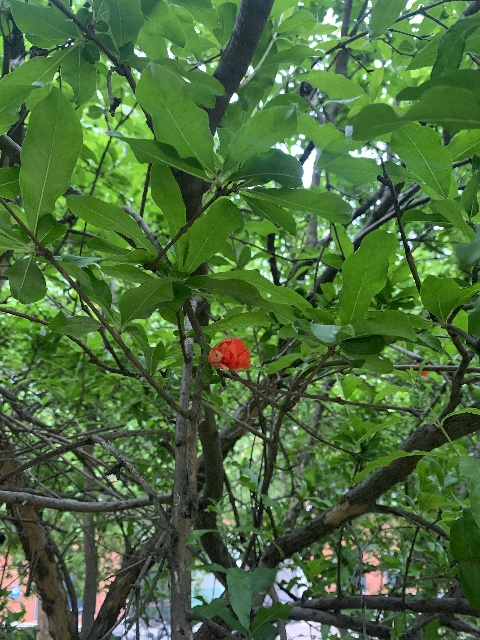flower: (207, 336, 251, 370)
